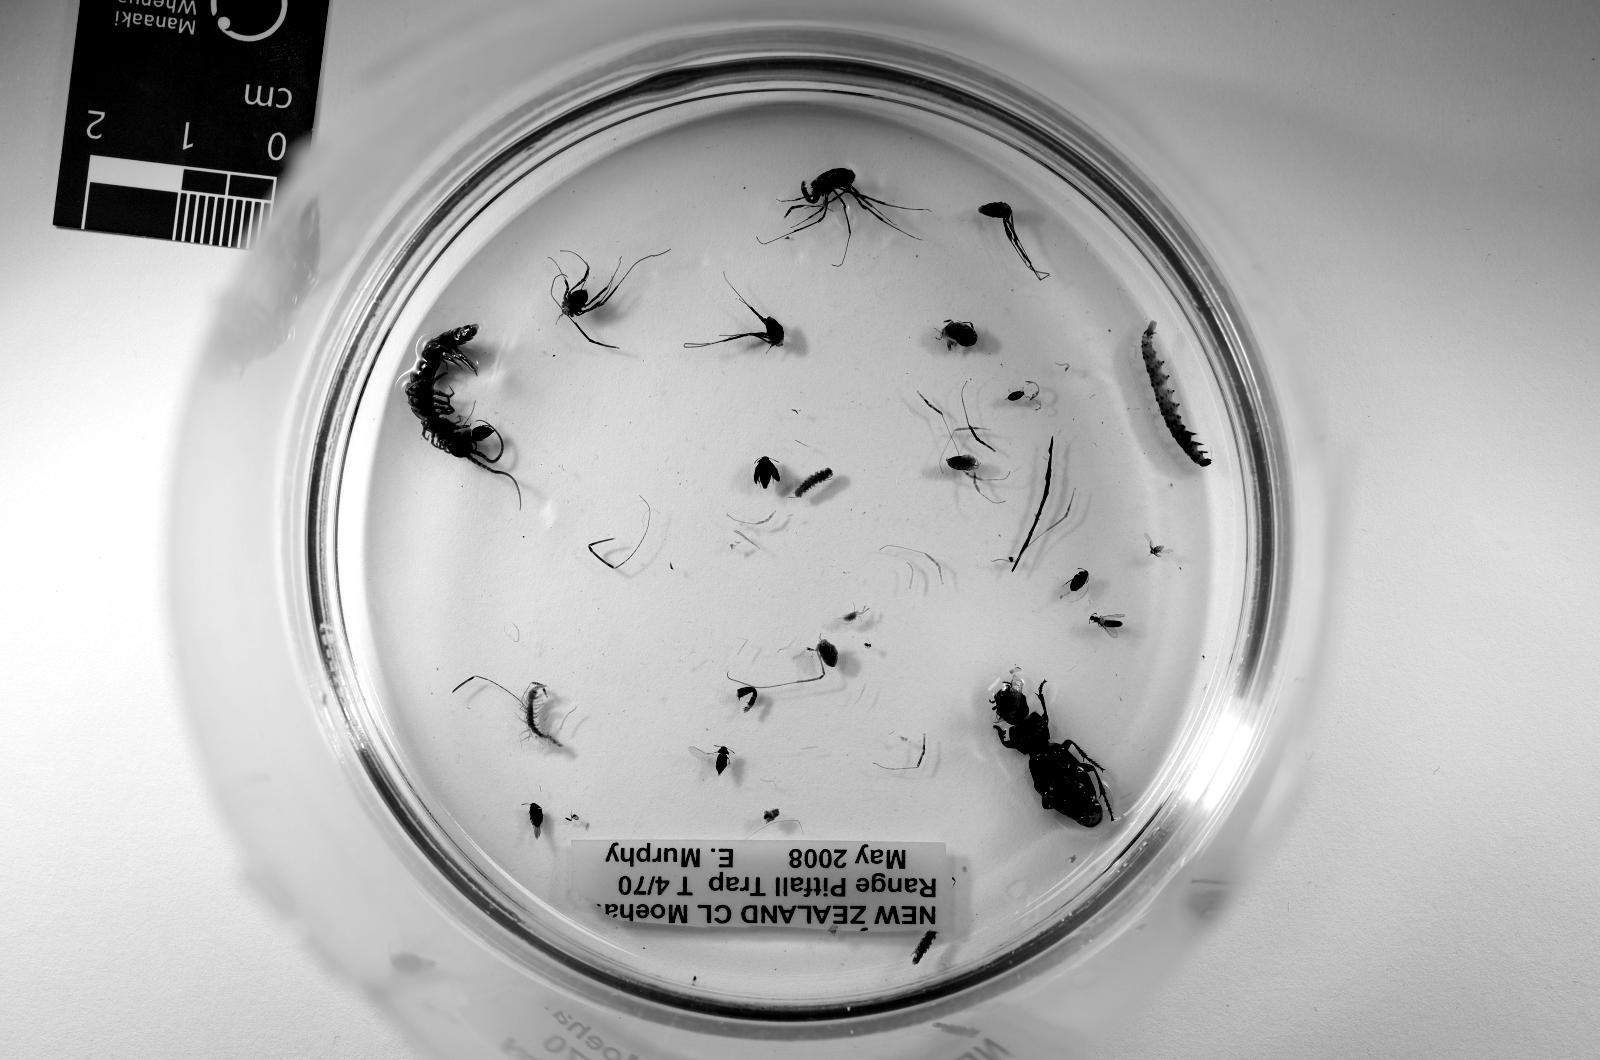carabidae: (993, 684, 1113, 829)
chilopoda: (407, 327, 516, 485), (519, 680, 563, 749)
coleoptera: (753, 457, 782, 487), (1144, 535, 1172, 556), (529, 804, 544, 839), (1090, 615, 1122, 631), (1069, 568, 1088, 593), (715, 745, 728, 774), (1010, 392, 1025, 401)
coleoptera_larva: (1141, 323, 1212, 466)
opiliones: (778, 168, 915, 245), (556, 252, 666, 348), (685, 286, 784, 348), (978, 202, 1035, 270), (947, 453, 978, 491), (940, 319, 978, 348), (816, 640, 837, 667)
